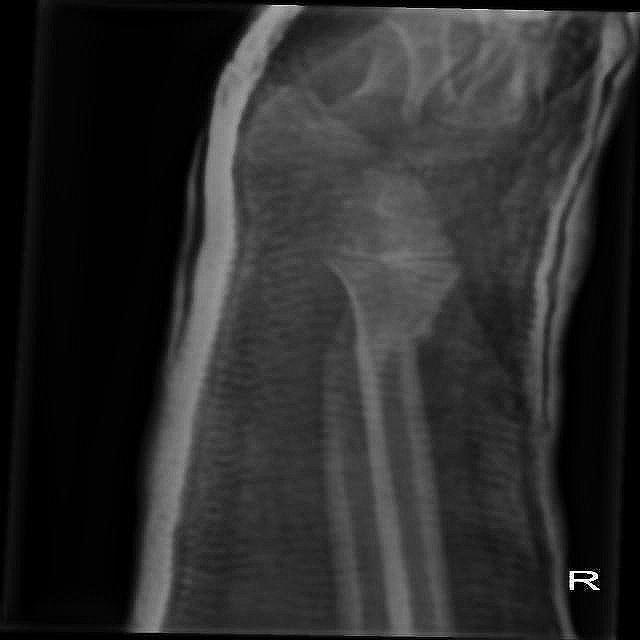bone: (348, 317, 438, 361)
